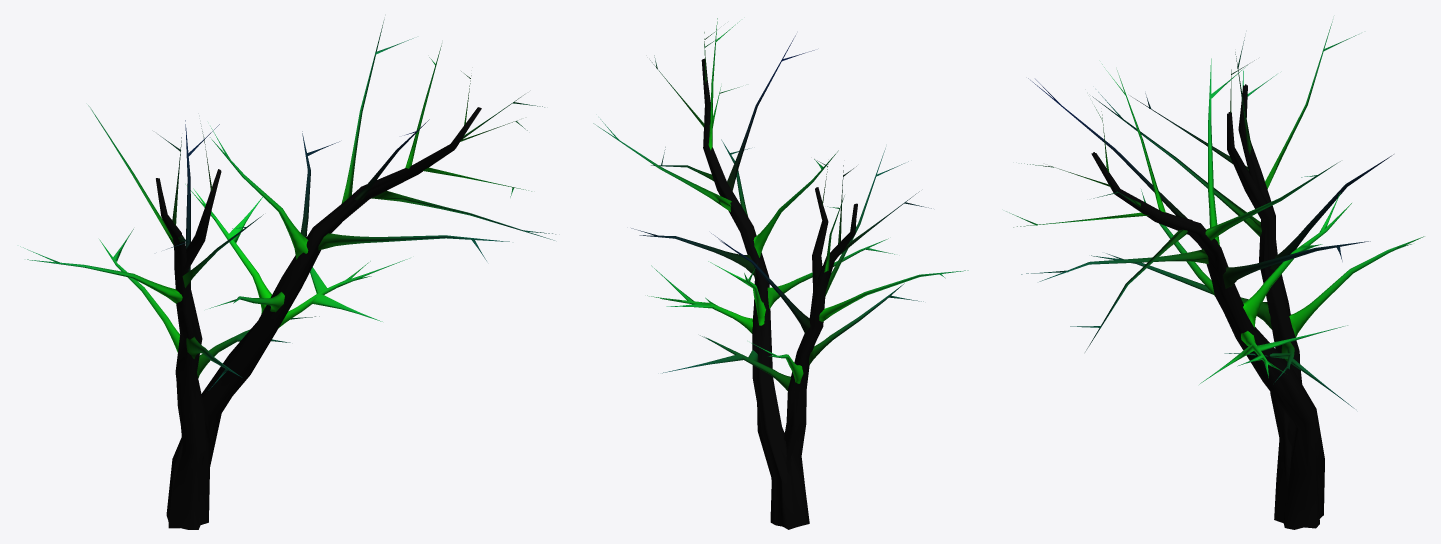
The model's file is Tree_dead.fbx.
3 views of the same model, side by side, from view 1: azimuth 30°, elevation 25°; view 2: azimuth 150°, elevation 25°; view 3: azimuth 270°, elevation 25° (orthographic). The views are drawn at different scales.
Parts seen in each view (by area): view 1: tree; view 2: tree; view 3: tree.
Part boxes in pixels (left/top/right/bottom): tree: left=20, top=19, right=555, bottom=529; tree: left=593, top=18, right=968, bottom=529; tree: left=1006, top=21, right=1424, bottom=529.
Bounding box in the file's own units: 56713 × 58749 × 41826.
